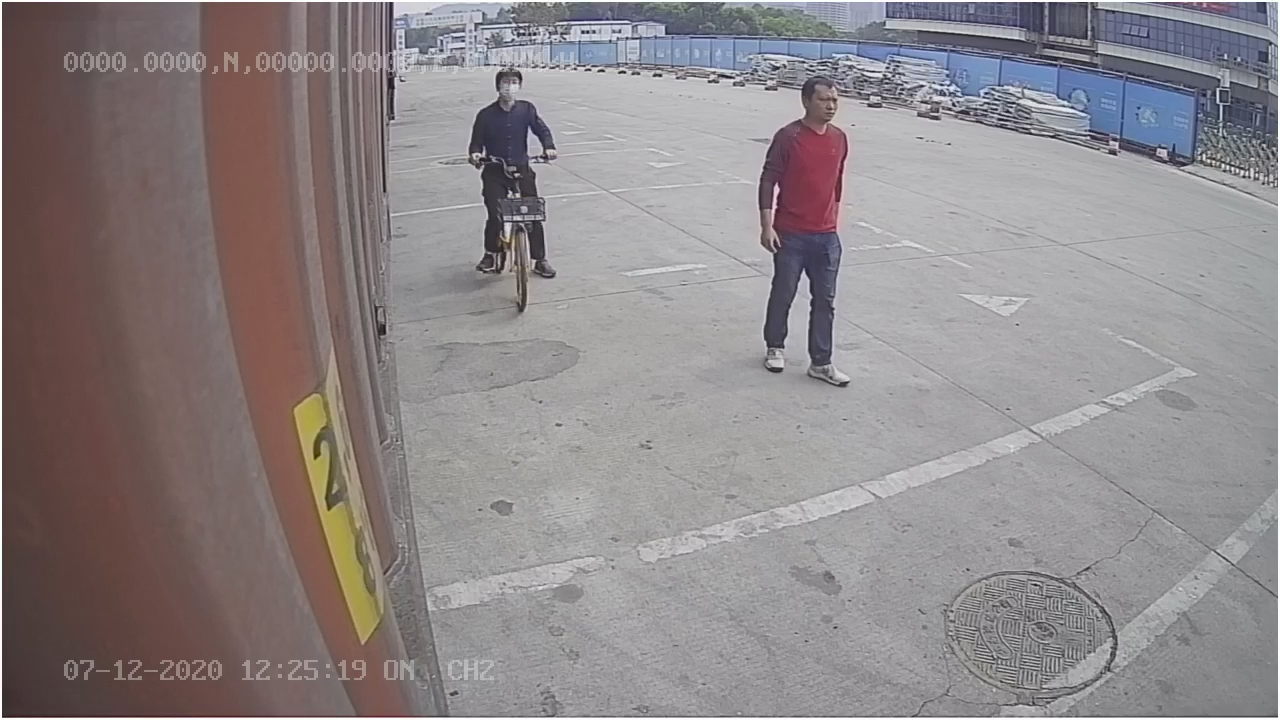person: (751, 69, 857, 391)
